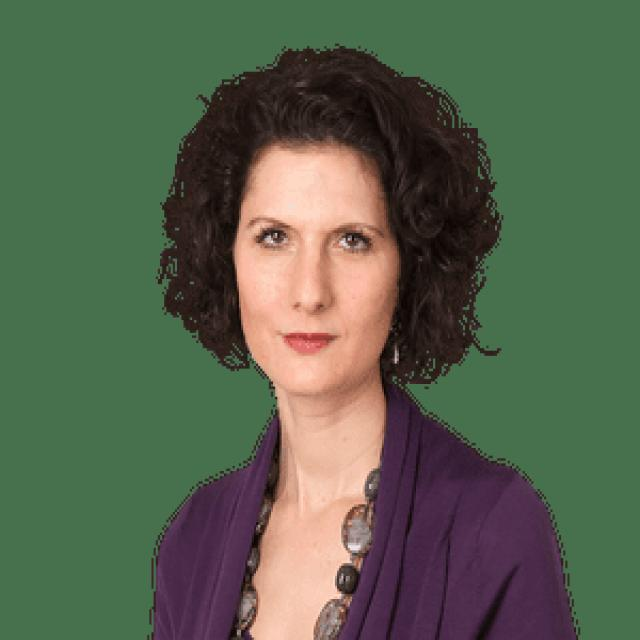human: (140, 36, 588, 640)
